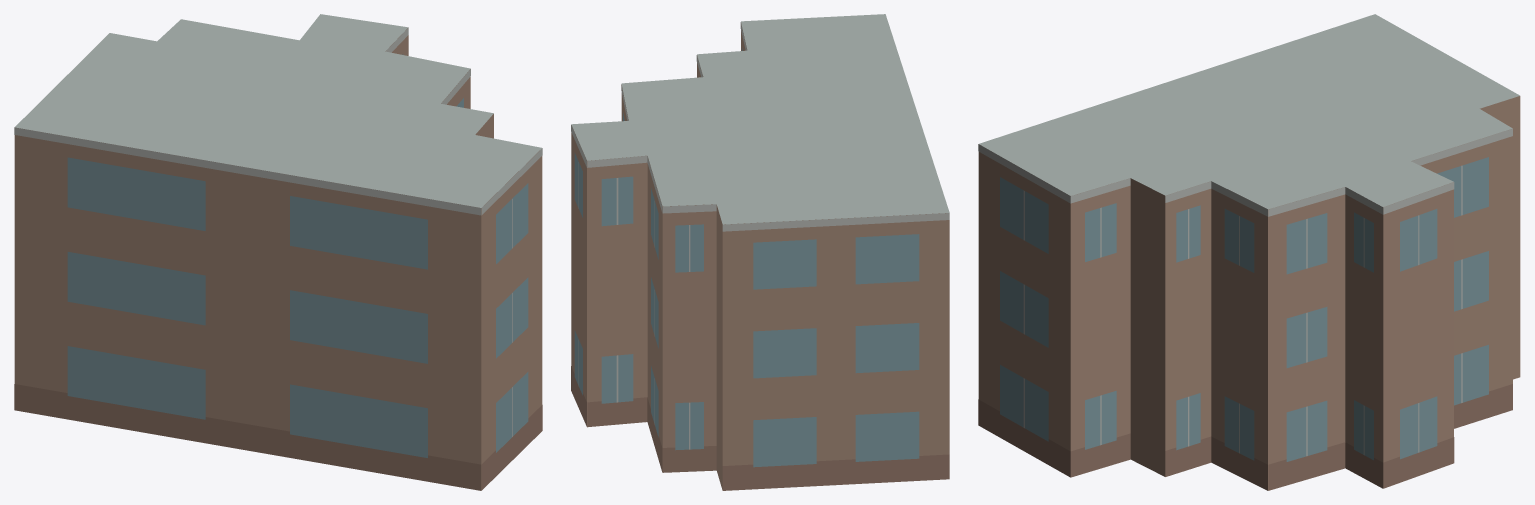
File: survey-upis-32598092.glb
3 renders of one model, left to right at view 1: azimuth 30°, elevation 25°; view 2: azimuth 150°, elevation 25°; view 3: azimuth 270°, elevation 25°, orthographic. The views are drawn at different scales.
Visible parts, largest first — view 1: survey-upis-32598092.tmp; view 2: survey-upis-32598092.tmp; view 3: survey-upis-32598092.tmp.
Boxes of the visible parts, x1,y1,x2,y2 form: survey-upis-32598092.tmp: [14, 14, 542, 490]; survey-upis-32598092.tmp: [571, 14, 949, 490]; survey-upis-32598092.tmp: [978, 14, 1520, 490].
Bounding box in the file's own units: 13.63 × 9.15 × 15.98.
